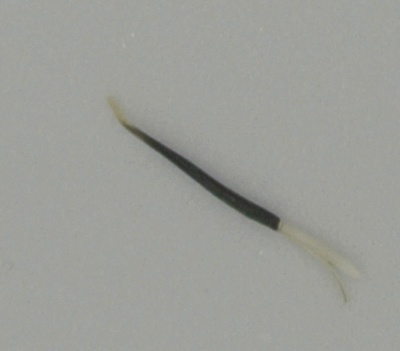เมล็ดดีเรียวยาว: (106, 100, 362, 304)
